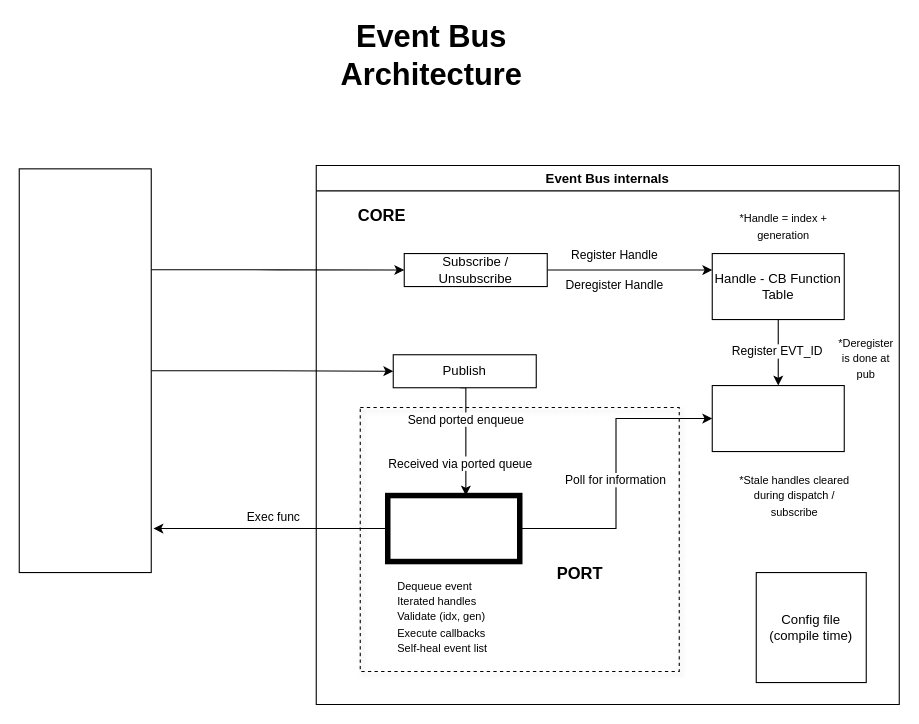
Some shapes in this 919 by 724 pixel diagram are drawn without their labels. Here are the shapes that lost their labels. From the top down, the centre of each, then its label:
At (84,370): "Outside world".
At (777,418): "Evt ID - Handles Table".
At (453,528): "Dispatcher loop".
